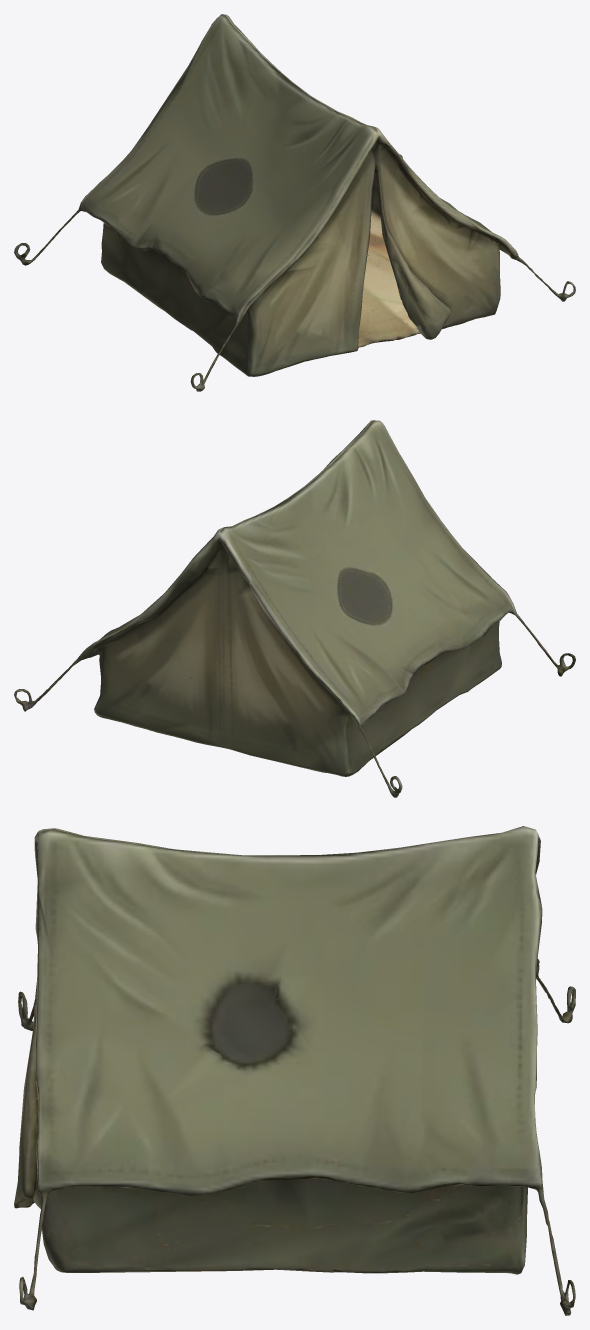
File: Tent.glb
The picture shows the model from 3 angles, top to bottom: view 1: azimuth 30°, elevation 25°; view 2: azimuth 150°, elevation 25°; view 3: azimuth 270°, elevation 25°; orthographic projection. The views are drawn at different scales.
Size of the model in its own units: 2 by 1.09 by 1.58.
Materials: 1 (1 with a texture image).
